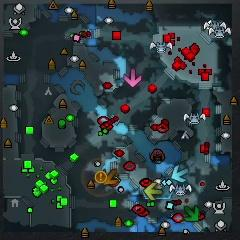x1: (123, 69, 142, 88)
x2: (145, 182, 163, 201)
x3: (172, 165, 190, 184)
x4: (182, 205, 200, 223)
x5: (101, 167, 118, 185)
